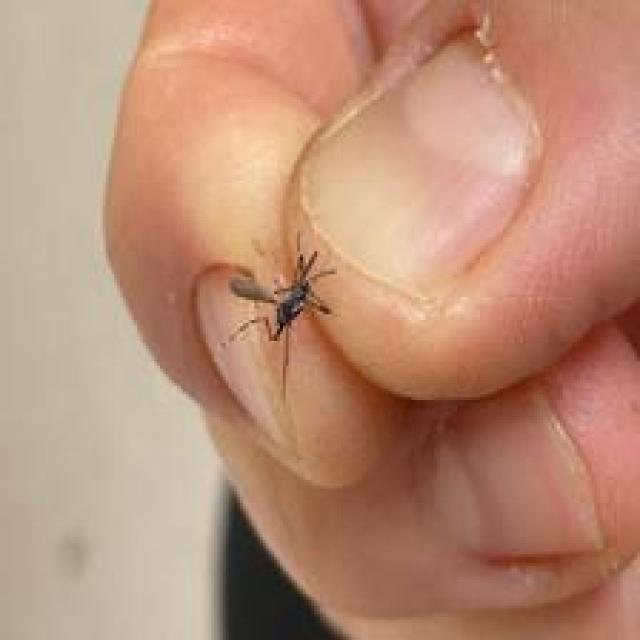Aedes albopictus: (218, 231, 338, 400)
